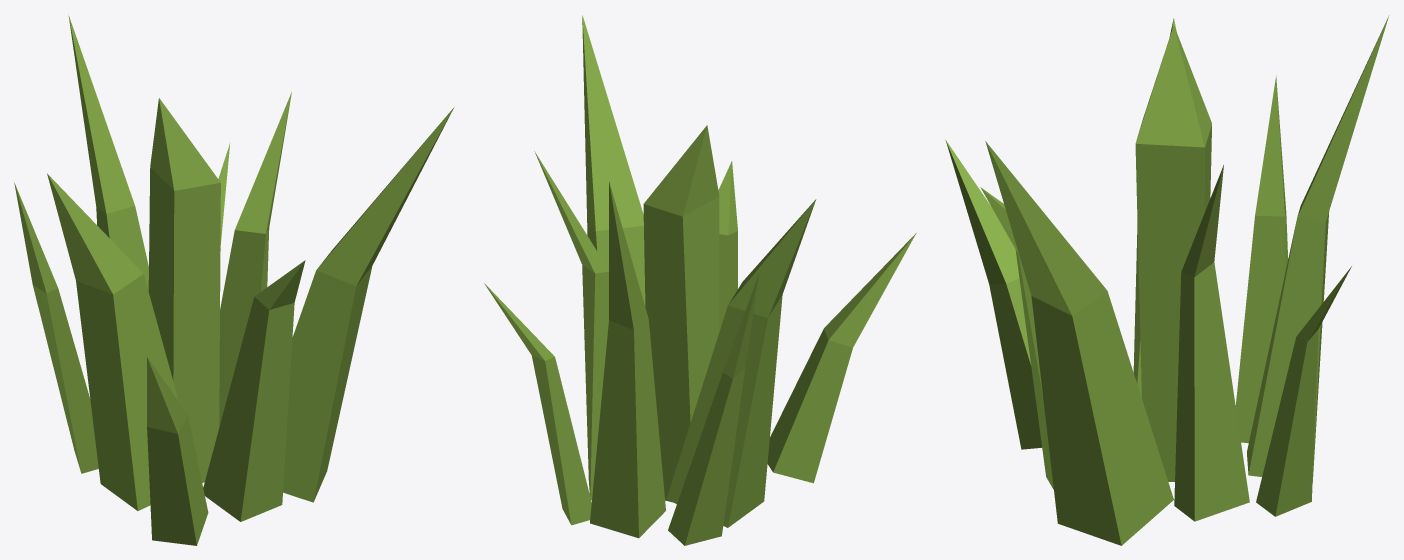
The model's file is Grass_06.fbx.
3 renders of one model, left to right at view 1: azimuth 30°, elevation 25°; view 2: azimuth 150°, elevation 25°; view 3: azimuth 270°, elevation 25°, orthographic. The views are drawn at different scales.
Visible parts, largest first — view 1: Grass_06; view 2: Grass_06; view 3: Grass_06.
Boxes of the visible parts, x1,y1,x2,y2 form: Grass_06: (14, 15, 454, 545); Grass_06: (484, 15, 916, 545); Grass_06: (945, 15, 1389, 545).
Size of the model in its own units: 16.95 by 20.14 by 17.79.
